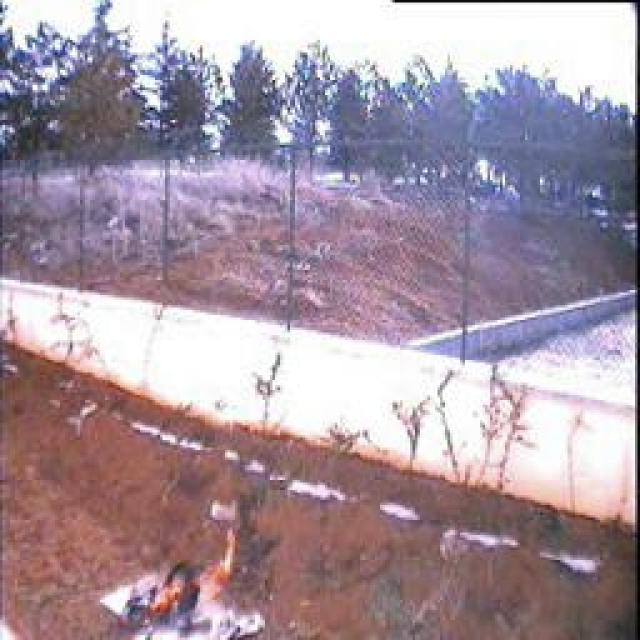Fire: (136, 528, 236, 632)
